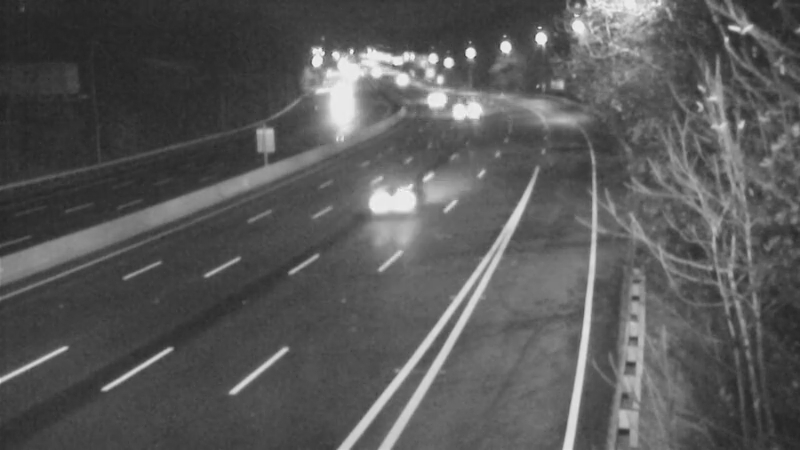vehicle: (358, 156, 438, 236), (370, 51, 420, 101), (407, 75, 457, 125), (437, 81, 487, 131), (311, 77, 361, 127)
